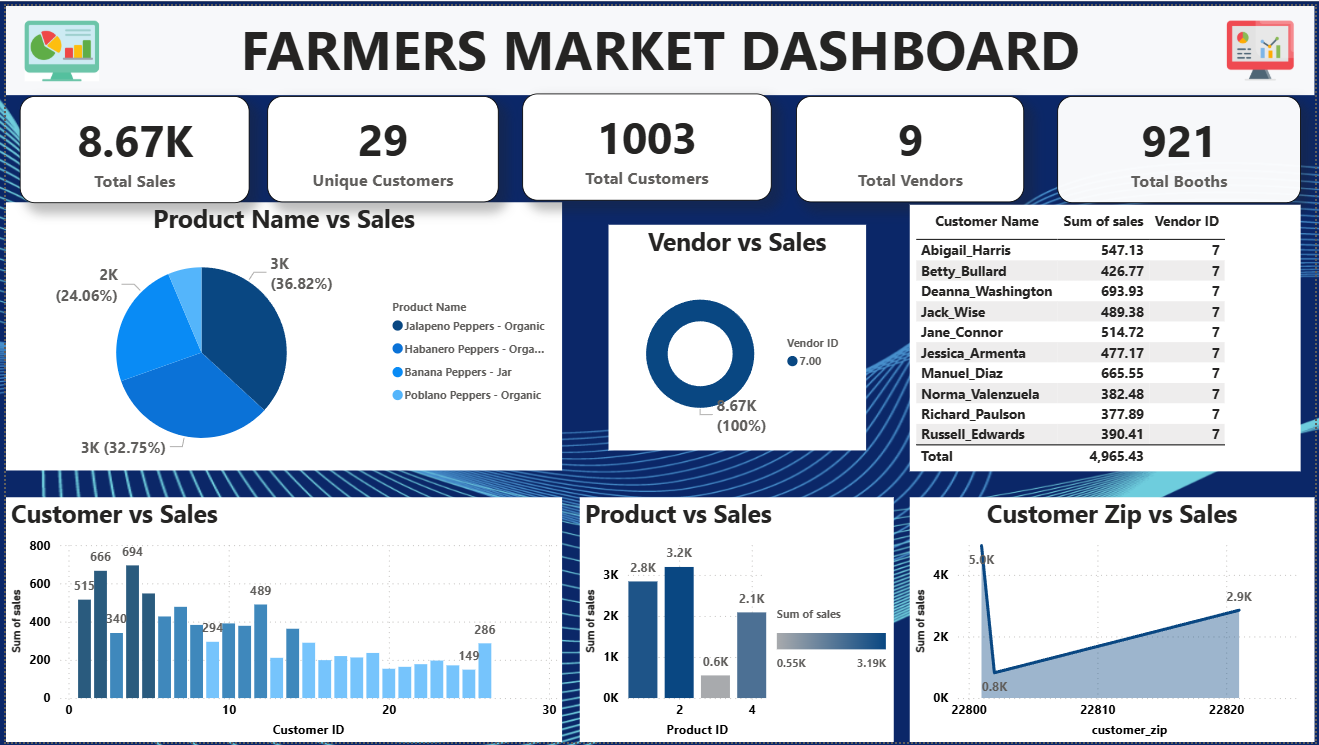

The page's visual inventory and layout, read from the dashboard file:
{"tool":"powerbi","page":{"name":"Sales Wise Analysis","canvas":[1280,720],"ordinal":2},"visuals":[{"type":"columnChart","title":"Customer vs Sales","fields":{"Category":["customer_purchases.customer_id"],"Y":["Sum(customer_purchases.sales)"]},"box":[0,480.6,543.9,239.6],"z":0},{"type":"clusteredColumnChart","title":"Product vs Sales","fields":{"Category":["product.product_id"],"Y":["Sum(customer_purchases.sales)"]},"box":[561.4,480.6,306.9,239.6],"z":1000},{"type":"pieChart","title":"Product Name vs Sales","fields":{"Category":["product.product_name"],"Y":["Sum(customer_purchases.sales)"]},"box":[0,192.5,543.9,262.5],"z":2000},{"type":"donutChart","title":"Vendor vs Sales","fields":{"Y":["Sum(customer_purchases.sales)"],"Category":["customer_purchases.vendor_id"]},"box":[589.7,214.1,251.7,220.8],"z":3000},{"type":"textbox","box":[0,0,1280.3,87.6],"z":4000},{"type":"image","box":[13.5,0,82.2,87.6],"z":5000},{"type":"image","box":[1187.3,0,79.5,87.6],"z":6000},{"type":"card","fields":{"Values":["customer_purchases.total_sales"]},"box":[13.5,87.5,224.8,105],"z":7000},{"type":"card","fields":{"Values":["Count(customer_purchases.customer_id)"]},"box":[255.8,87.5,226.2,103.7],"z":8000},{"type":"card","fields":{"Values":["CountNonNull(customer_purchases.quantity)"]},"box":[504.8,86.2,243.7,105],"z":9000},{"type":"card","fields":{"Values":["CountNonNull(vendor.vendor_id)"]},"box":[772.7,87.5,223.5,103.7],"z":10000},{"type":"card","fields":{"Values":["CountNonNull(vendor_booth_assignments.booth_number)"]},"box":[1028.5,87.5,238.3,105],"z":11000},{"type":"tableEx","fields":{"Values":["customer.customer_full_name","Sum(customer_purchases.sales)","vendor.vendor_id"]},"box":[884.5,193.9,382.3,261.2],"z":12000},{"type":"areaChart","title":"Customer Zip vs Sales","fields":{"Category":["customer.customer_zip"],"Y":["Sum(customer_purchases.sales)"]},"box":[884.5,480.6,395.8,239.6],"z":13000}]}

Visuals, with their boxes in screenshot pixels (x1, y1, x2, y2), scaled from the page's 1280x720 canvas onto the 1319x745 screenshot:
"Customer vs Sales" columnChart: x1=0, y1=497, x2=560, y2=744
"Product vs Sales" clusteredColumnChart: x1=579, y1=497, x2=895, y2=744
"Product Name vs Sales" pieChart: x1=0, y1=199, x2=560, y2=471
"Vendor vs Sales" donutChart: x1=608, y1=222, x2=867, y2=450
textbox: x1=0, y1=0, x2=1318, y2=91
image: x1=14, y1=0, x2=99, y2=91
image: x1=1223, y1=0, x2=1305, y2=91
card - customer_purchases.total_sales: x1=14, y1=91, x2=246, y2=199
card - Count(customer_purchases.customer_id): x1=264, y1=91, x2=497, y2=198
card - CountNonNull(customer_purchases.quantity): x1=520, y1=89, x2=771, y2=198
card - CountNonNull(vendor.vendor_id): x1=796, y1=91, x2=1027, y2=198
card - CountNonNull(vendor_booth_assignments.booth_number): x1=1060, y1=91, x2=1305, y2=199
tableEx - customer.customer_full_name x Sum(customer_purchases.sales): x1=911, y1=201, x2=1305, y2=471
"Customer Zip vs Sales" areaChart: x1=911, y1=497, x2=1318, y2=744
